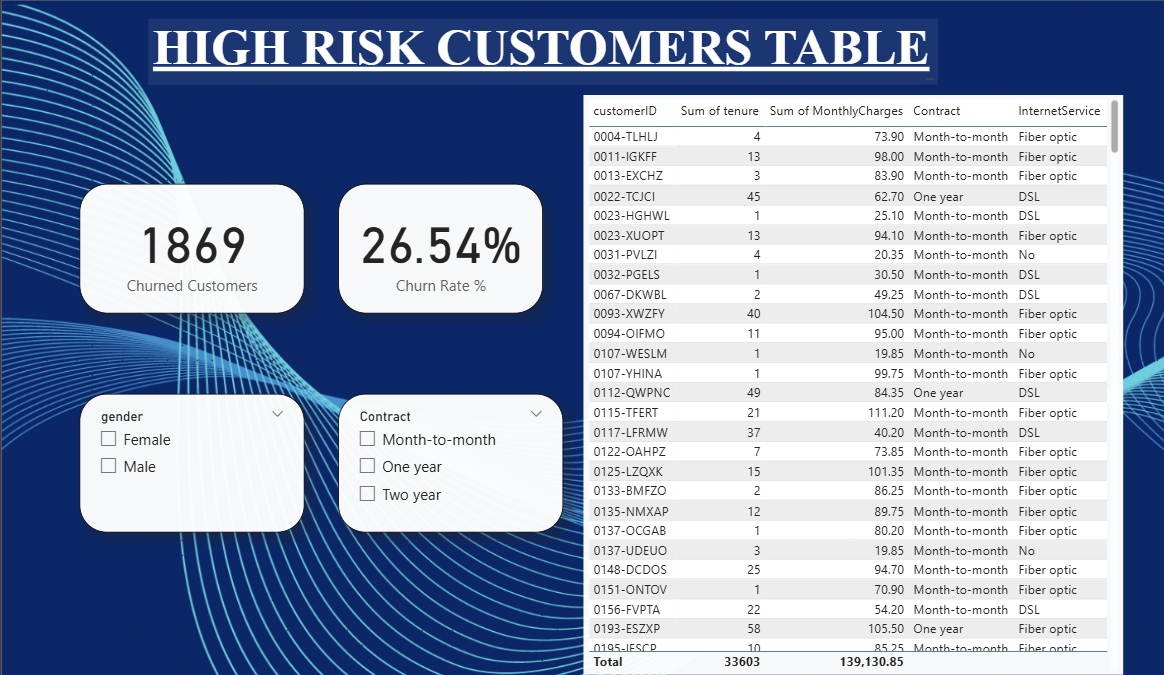

The page's visual inventory and layout, read from the dashboard file:
{"tool":"powerbi","page":{"name":"Retention Strategy","canvas":[1280,720],"ordinal":3},"visuals":[{"type":"tableEx","fields":{"Values":["WA_Fn-UseC_-Telco-Customer-Chur.customerID","Sum(WA_Fn-UseC_-Telco-Customer-Chur.tenure)","Sum(WA_Fn-UseC_-Telco-Customer-Chur.MonthlyCharges)","WA_Fn-UseC_-Telco-Customer-Chur.Contract","WA_Fn-UseC_-Telco-Customer-Chur.InternetService"]},"box":[620,101.3,576,618.7],"z":0},{"type":"card","fields":{"Values":["WA_Fn-UseC_-Telco-Customer-Chur.Churned Customers"]},"box":[82.7,196,240,138.7],"z":1000},{"type":"card","fields":{"Values":["WA_Fn-UseC_-Telco-Customer-Chur.Churn Rate %"]},"box":[358.7,196,218.7,138.7],"z":2000},{"type":"slicer","fields":{"Values":["WA_Fn-UseC_-Telco-Customer-Chur.gender"]},"box":[82.7,420,240,148],"z":3000},{"type":"slicer","fields":{"Values":["WA_Fn-UseC_-Telco-Customer-Chur.Contract"]},"box":[358.7,420,240,148],"z":4000},{"type":"textbox","title":"HIGH RISK CUSTOMERS TABLE","box":[156,20,842.7,70.7],"z":4001}]}

Visuals, with their boxes in screenshot pixels (x1, y1, x2, y2), scaled from the page's 1280x720 canvas onto the 1164x675 screenshot:
tableEx - WA_Fn-UseC_-Telco-Customer-Chur.customerID x Sum(WA_Fn-UseC_-Telco-Customer-Chur.tenure): l=564, t=95, r=1088, b=674
card - WA_Fn-UseC_-Telco-Customer-Chur.Churned Customers: l=75, t=184, r=293, b=314
card - WA_Fn-UseC_-Telco-Customer-Chur.Churn Rate %: l=326, t=184, r=525, b=314
slicer - WA_Fn-UseC_-Telco-Customer-Chur.gender: l=75, t=394, r=293, b=532
slicer - WA_Fn-UseC_-Telco-Customer-Chur.Contract: l=326, t=394, r=544, b=532
"HIGH RISK CUSTOMERS TABLE" textbox: l=142, t=19, r=908, b=85
